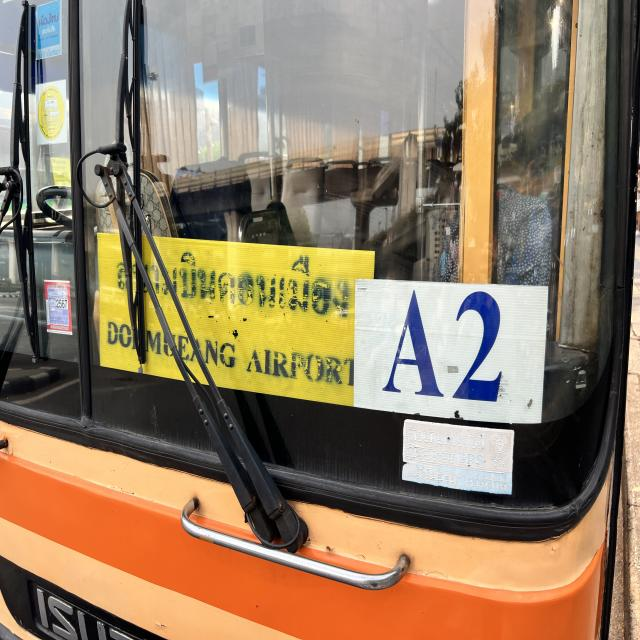BMTA-bus: (0, 0, 640, 640)
Destination-Sign-Normal-Expressway: (98, 234, 375, 410)
